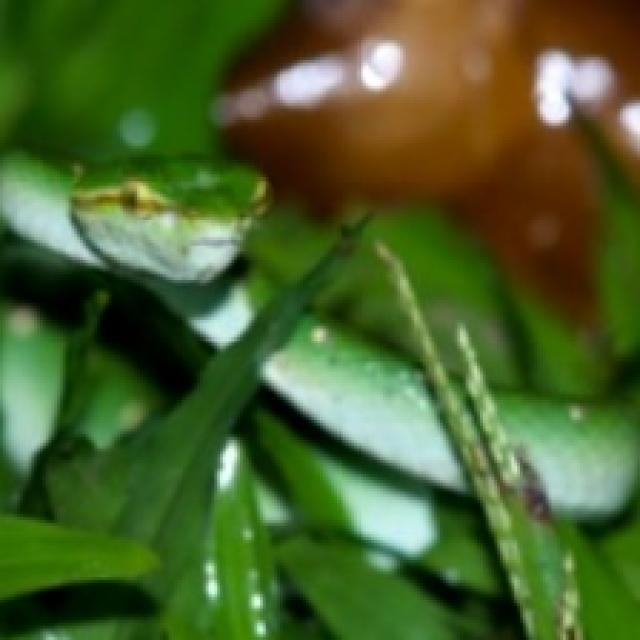north ph temple pitviper: (1, 119, 640, 640)
